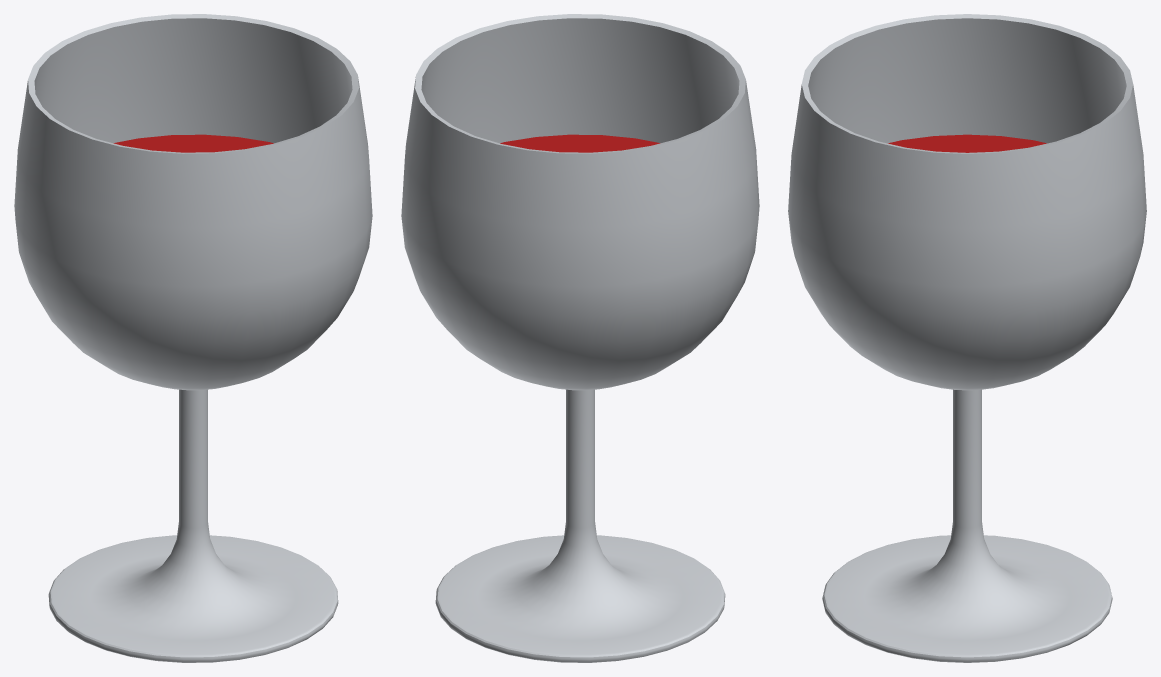
The model's file is wine_glass.fbx.
The picture shows the model from 3 angles, left to right: view 1: azimuth 30°, elevation 25°; view 2: azimuth 150°, elevation 25°; view 3: azimuth 270°, elevation 25°; orthographic projection.
Visible parts, largest first — view 1: Circle.2277; view 2: Circle.2277; view 3: Circle.2277.
Part boxes in pixels (x1=…): Circle.2277: x1=14, y1=14, x2=372, y2=662; Circle.2277: x1=401, y1=14, x2=759, y2=662; Circle.2277: x1=788, y1=14, x2=1146, y2=662.
Bounding box in the file's own units: 133 × 213 × 133.
2 materials, 1 textured.
